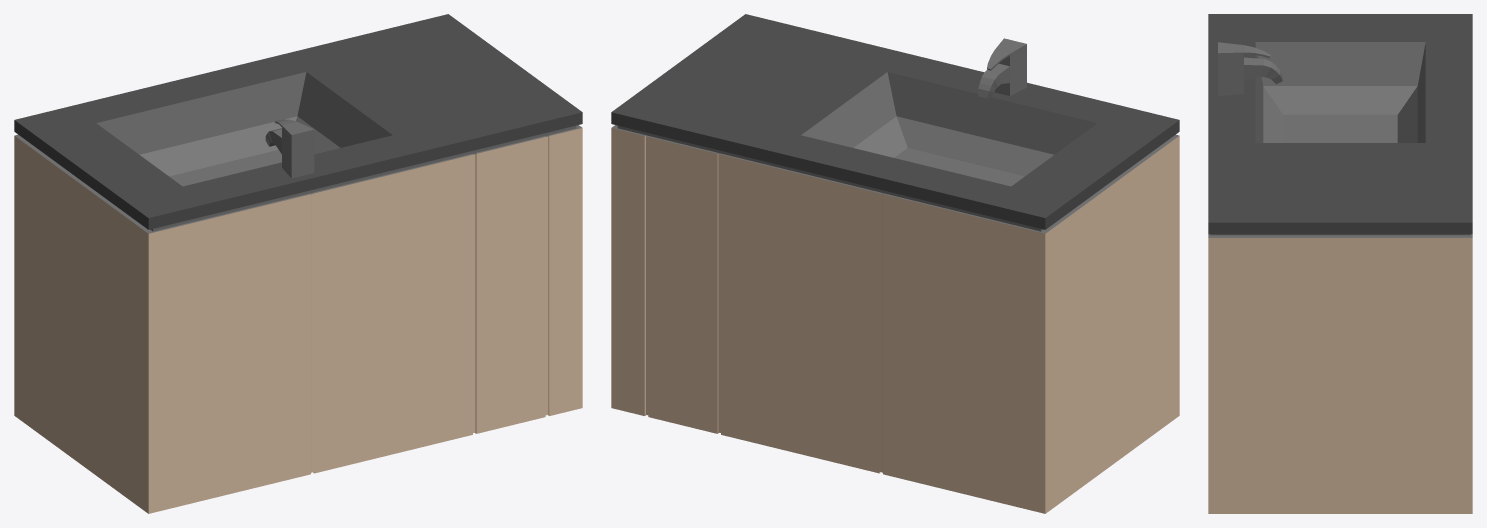
Rendered from Kitchen_Sink.fbx.
3 renders of one model, left to right at view 1: azimuth 30°, elevation 25°; view 2: azimuth 150°, elevation 25°; view 3: azimuth 270°, elevation 25°, orthographic.
Visible parts, largest first — view 1: Table, TapWater; view 2: Table, TapWater; view 3: Table, TapWater.
Boxes of the visible parts, x1,y1,x2,y2 form: Table: (14, 14, 582, 513); TapWater: (265, 119, 314, 178); Table: (611, 14, 1179, 513); TapWater: (978, 38, 1026, 98); Table: (1208, 14, 1472, 513); TapWater: (1218, 42, 1282, 95).
Size of the model in its own units: 1.63 by 1.22 by 0.8719.
